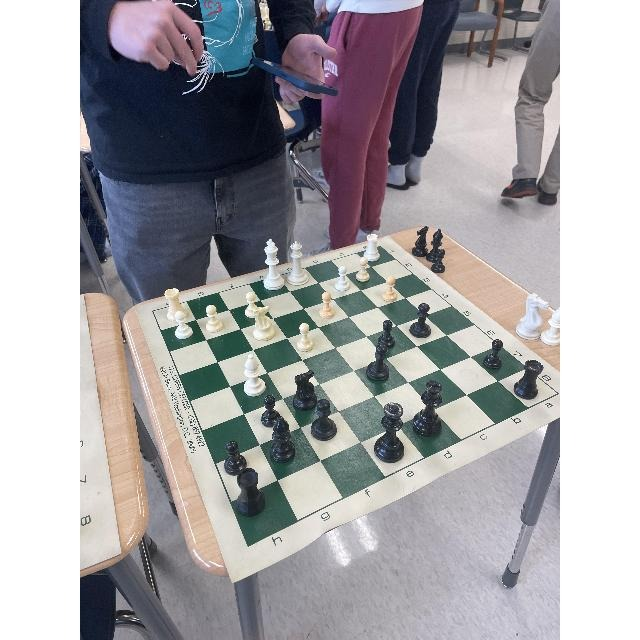black-bishop: (263, 407, 299, 458)
black-knight: (373, 404, 411, 461)
black-pawn: (310, 402, 342, 442), (410, 303, 436, 340), (293, 371, 316, 407)
black-rook: (225, 449, 273, 515), (368, 318, 395, 384), (417, 383, 445, 441), (420, 229, 451, 278), (510, 360, 550, 394), (258, 244, 286, 285)
white-bishop: (240, 301, 282, 345), (521, 291, 549, 351), (283, 243, 318, 287)
white-pawn: (293, 319, 333, 356), (243, 355, 275, 395), (169, 301, 199, 343), (201, 300, 237, 335), (333, 261, 355, 299)
